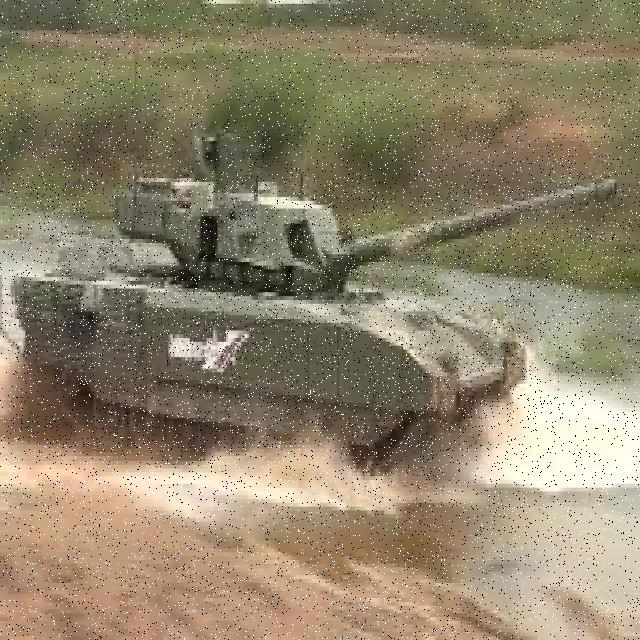MIL_MBT: (14, 173, 582, 458)
